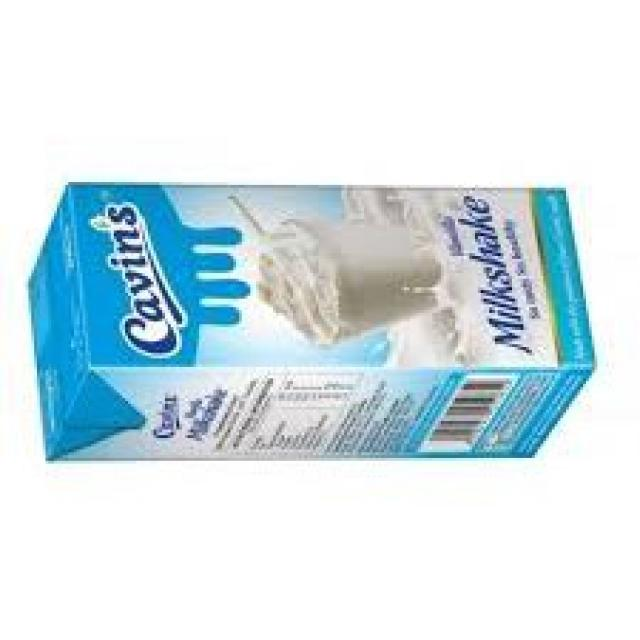non_white_jug: (21, 176, 600, 467)
